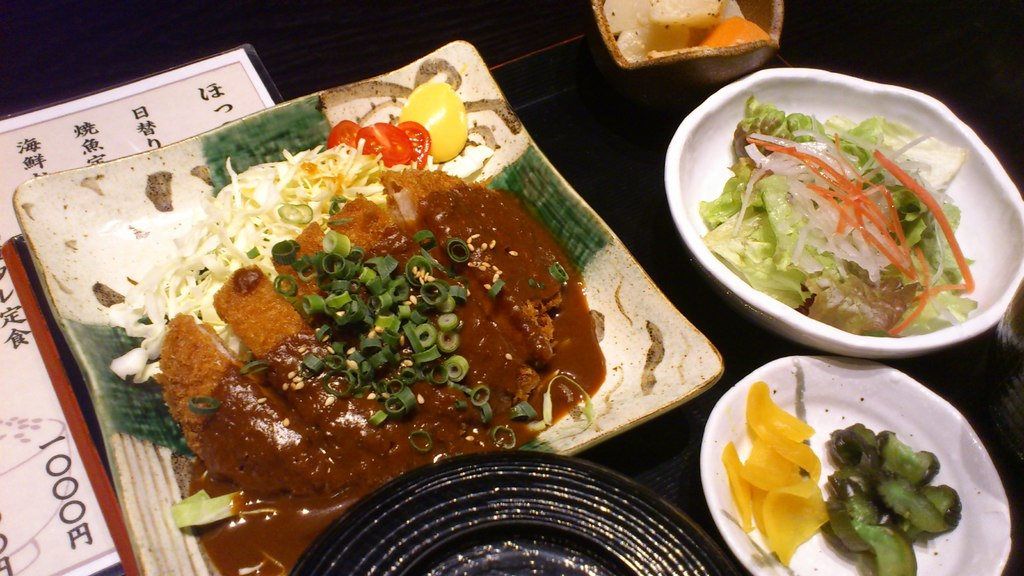salad: (116, 67, 609, 544), (692, 88, 995, 343)
